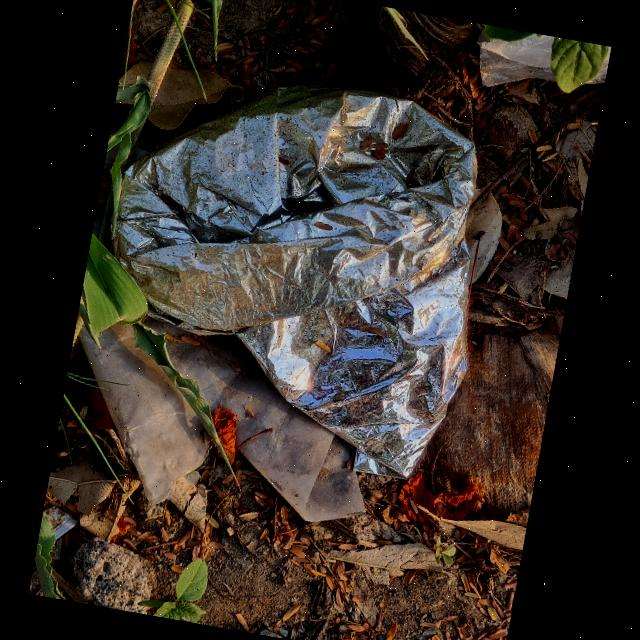trash: (74, 49, 514, 488), (52, 304, 394, 538), (214, 208, 489, 488), (50, 309, 233, 514), (469, 24, 612, 107)
